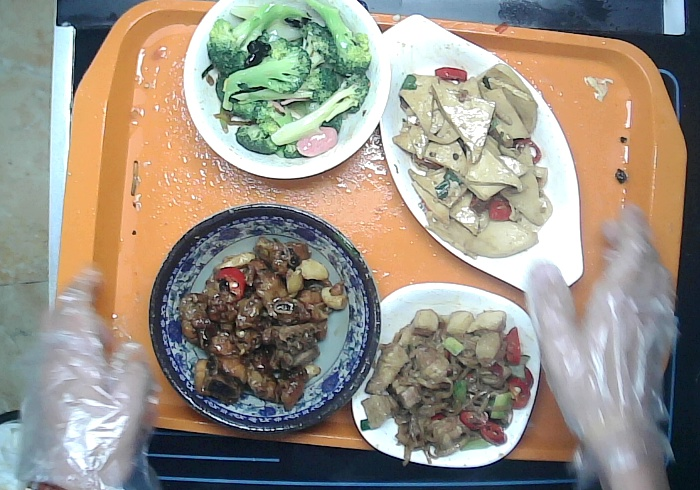ZNLD-Qing_Hua_Wan: (142, 196, 389, 449)
ZNLD-Si_Fang_Wan: (346, 271, 546, 473)
ZNLD-Tang_Wan: (176, 1, 400, 197)
ZNLD-Yu_Pan: (358, 4, 598, 306)
